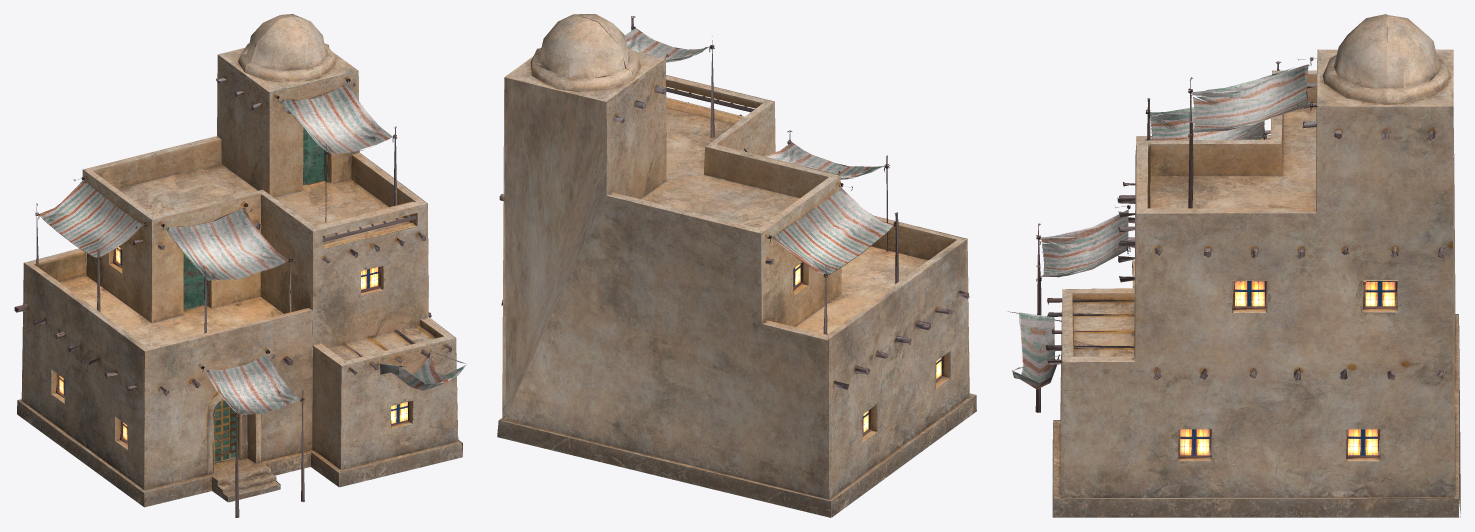
The model's file is xi_dep_house_low.gltf.
3 renders of one model, left to right at view 1: azimuth 30°, elevation 25°; view 2: azimuth 150°, elevation 25°; view 3: azimuth 270°, elevation 25°, orthographic. The views are drawn at different scales.
Visible parts, largest first — view 1: xi_dep_house; view 2: xi_dep_house; view 3: xi_dep_house.
Part boxes in pixels (box(x1,y1,x2,y2)): xi_dep_house: box(14, 14, 465, 517); xi_dep_house: box(497, 14, 976, 517); xi_dep_house: box(1008, 14, 1460, 517).
Size of the model in its own units: 11.3 by 12.55 by 11.09.
Materials: 2 (2 with a texture image).
